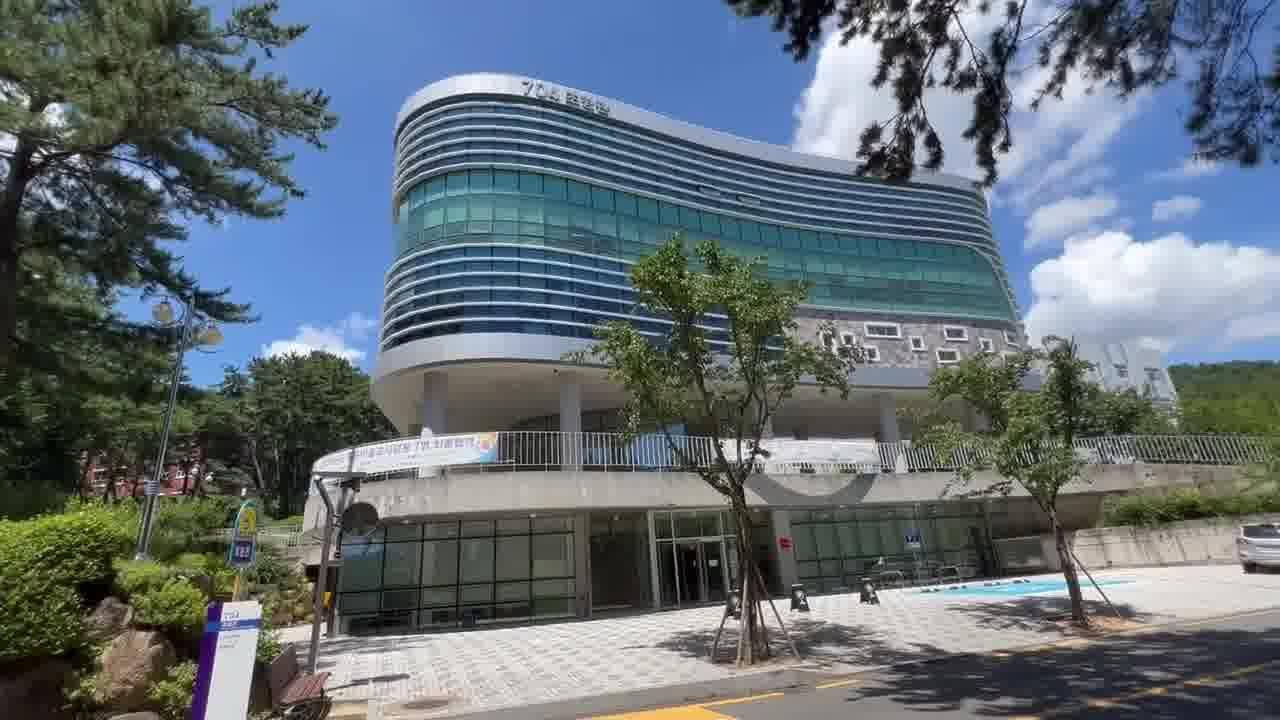building: (342, 61, 1039, 370)
